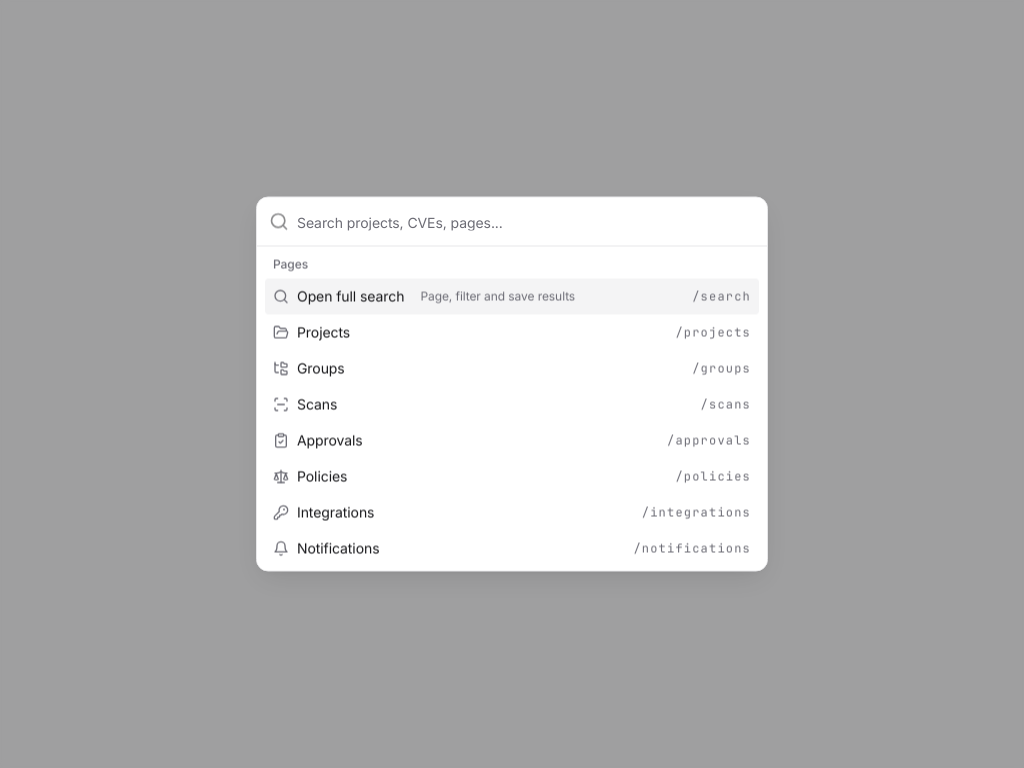
Scenario: CommandMenu › clears component/CVE hits when the query drops back below 3 chars
The width and height of the screenshot is (1024, 768).
Type "lodash" into the dropdown with placeholder "Search projects, CVEs, pages...".
click(526, 222); type("lodash")  # box [297, 198, 755, 246]
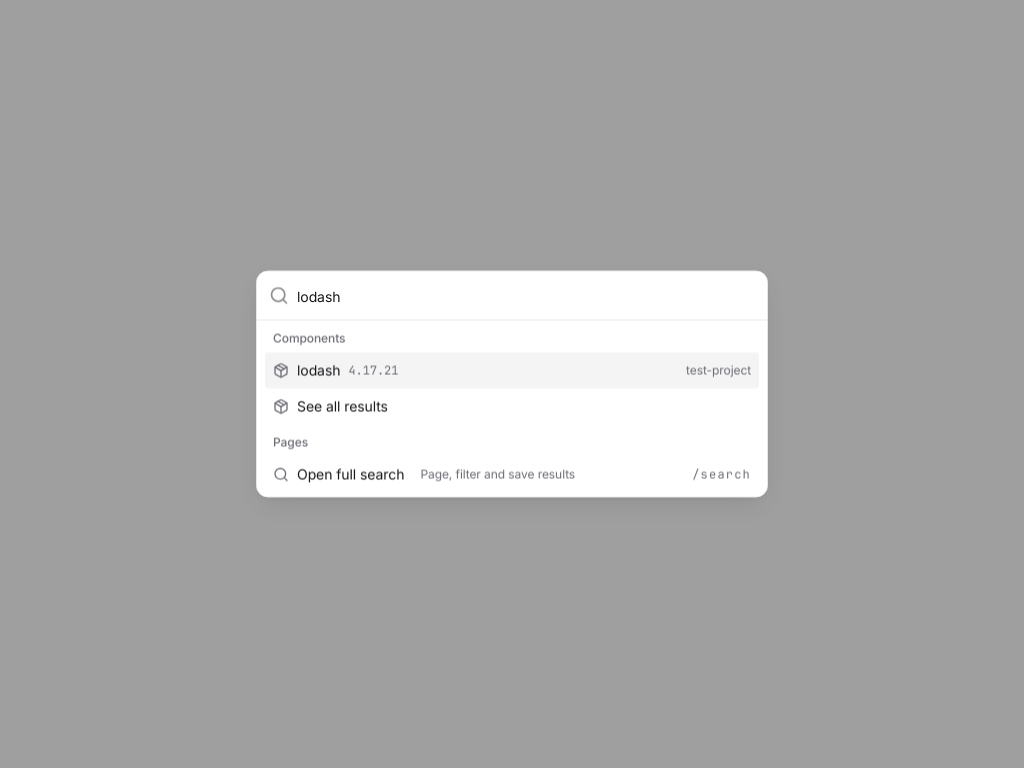
Now the option with test id "command-menu-component-proj-abc-0" is shown, box [265, 352, 759, 388]
// Erase down to a single character — the Components group must disappear.
Clear the dropdown with placeholder "Search projects, CVEs, pages..." at (526, 296), box [297, 272, 755, 320]
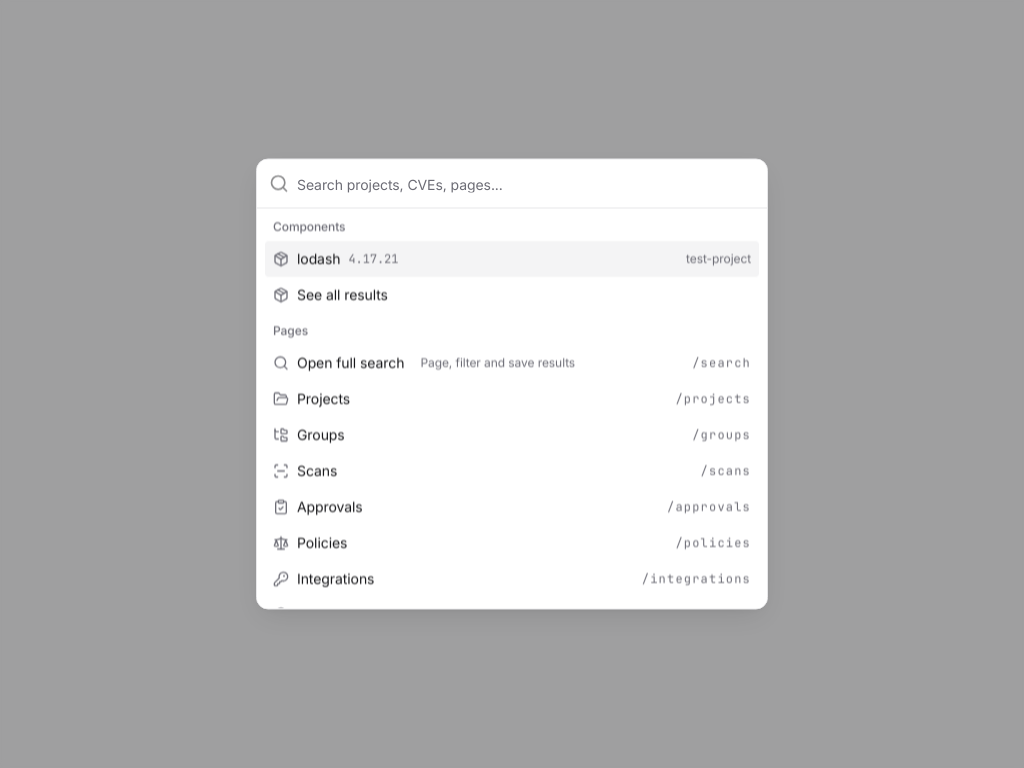
Type "l" into the dropdown with placeholder "Search projects, CVEs, pages...".
click(526, 184); type("l")  # box [297, 160, 755, 208]
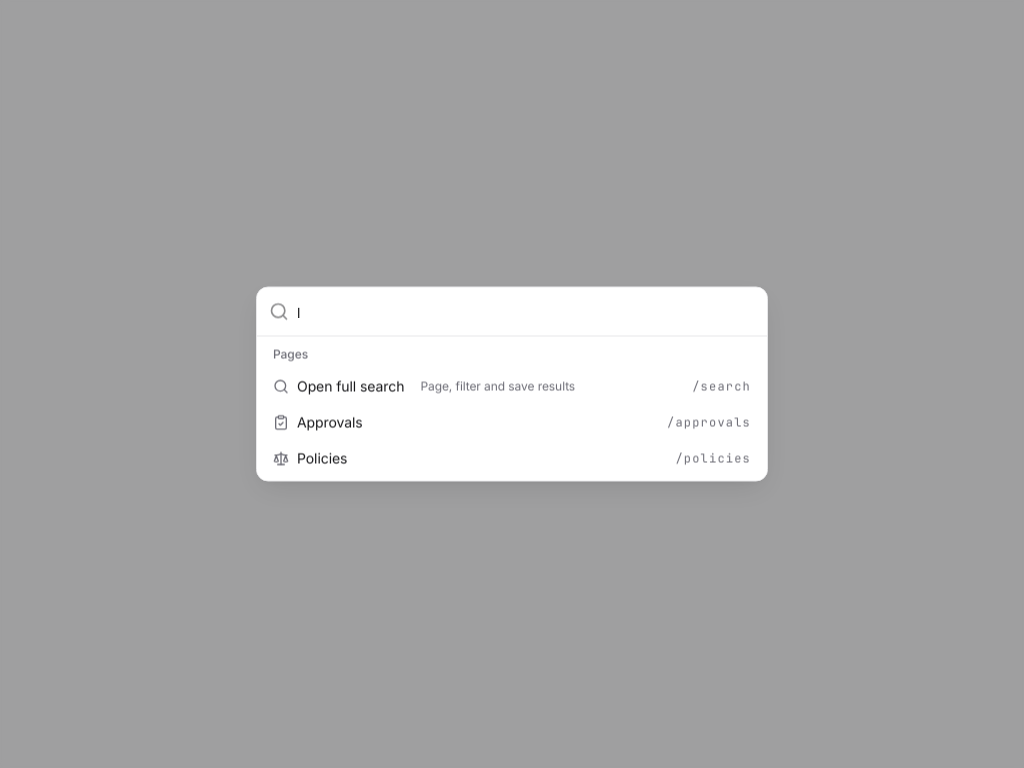
Now the element with test id "command-menu-group-components" is gone
